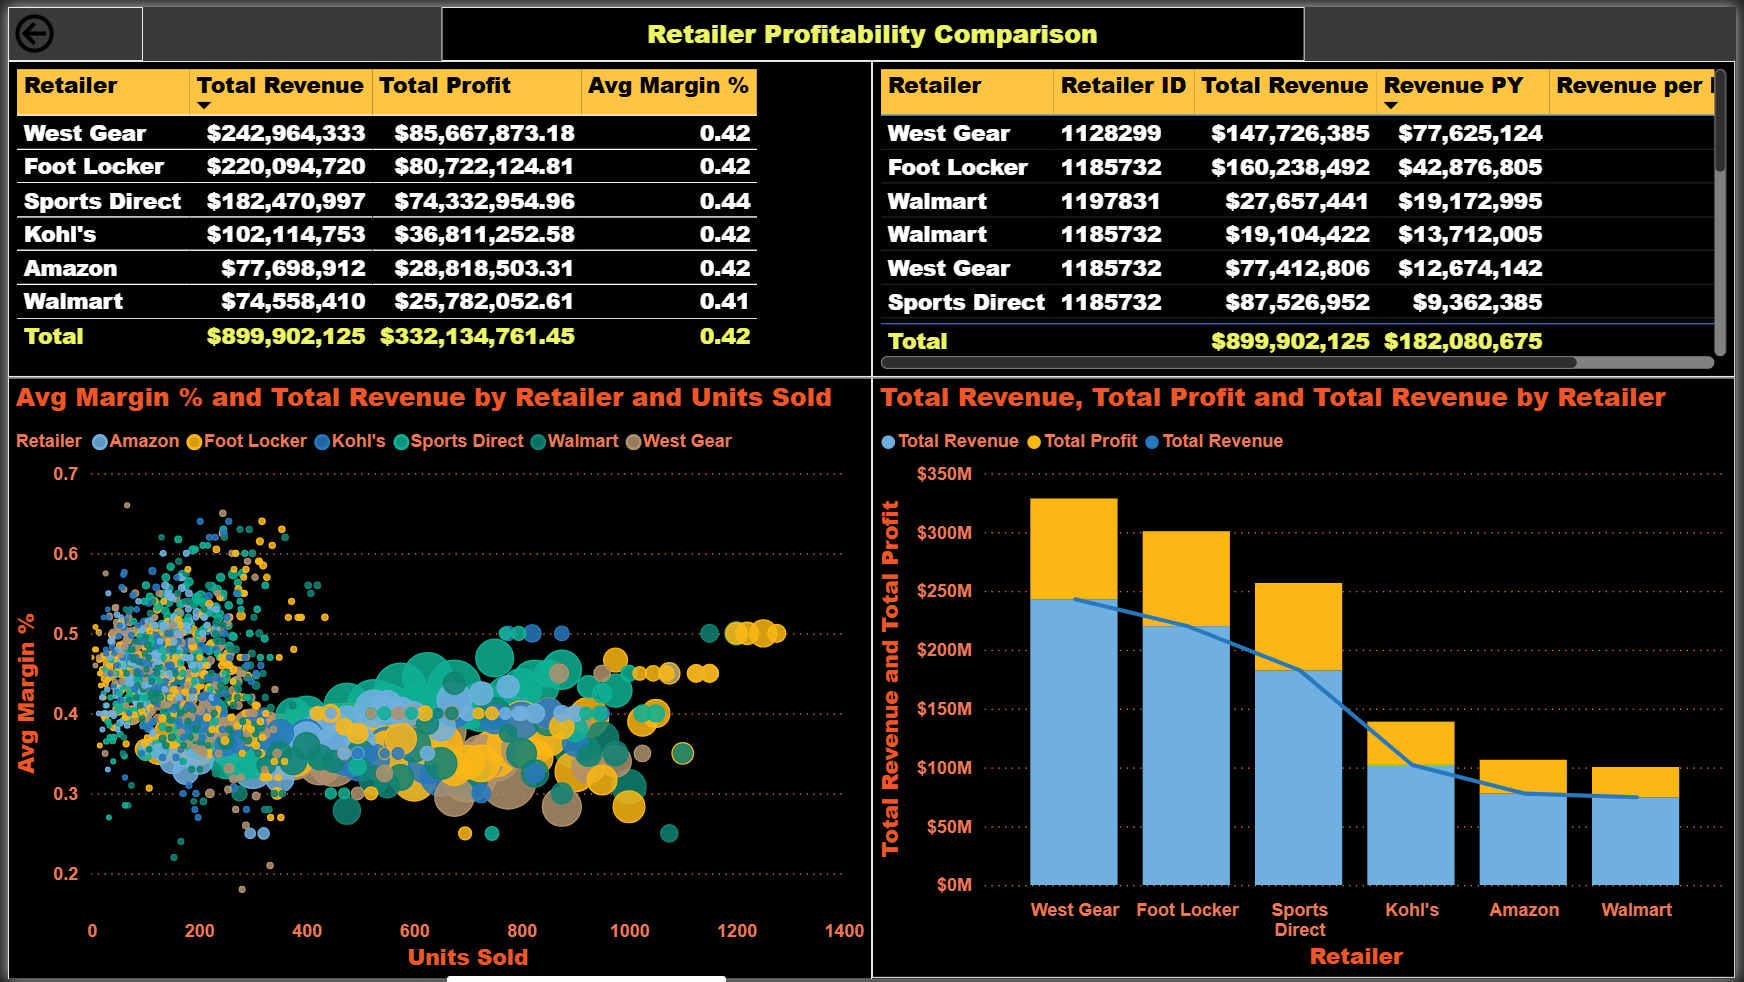

Layout of this report page (visuals, bound fields, positions):
{"tool":"powerbi","page":{"name":"Retailer Profitability Comparison","canvas":[1280,720],"ordinal":2},"visuals":[{"type":"lineStackedColumnComboChart","fields":{"Category":["Data Sales Adidas.Retailer"],"Y":["_Measures.Total Revenue","_Measures.Total Profit"],"Y2":["_Measures.Total Revenue"]},"box":[640.2,274.4,639.2,445],"z":0},{"type":"scatterChart","fields":{"X":["Data Sales Adidas.Units Sold"],"Y":["_Measures.Avg Margin %"],"Series":["Data Sales Adidas.Retailer"],"Size":["_Measures.Total Revenue"]},"box":[0,274.4,640.2,446],"z":1000},{"type":"tableEx","fields":{"Values":["Data Sales Adidas.Retailer","_Measures.Total Revenue","_Measures.Total Profit","_Measures.Avg Margin %"]},"box":[0,40.1,640.2,234.3],"z":2000},{"type":"tableEx","fields":{"Values":["Data Sales Adidas.Retailer","Data Sales Adidas.Retailer ID","_Measures.Total Revenue","_Measures.Revenue PY","_Measures.Revenue per Retailer Rank"]},"box":[640.2,40.1,639.2,234.3],"z":3000},{"type":"actionButton","box":[0,0,100,40],"z":6000},{"type":"textbox","box":[320.6,0,639.2,40.1],"z":6001}]}

Visuals, with their boxes in screenshot pixels (x1, y1, x2, y2), scaled from the page's 1280x720 canvas onto the 1744x982 screenshot:
lineStackedColumnComboChart - Data Sales Adidas.Retailer x _Measures.Total Revenue: [x1=872, y1=374, x2=1743, y2=981]
scatterChart - Data Sales Adidas.Units Sold x _Measures.Avg Margin %: [x1=0, y1=374, x2=872, y2=981]
tableEx - Data Sales Adidas.Retailer x _Measures.Total Revenue: [x1=0, y1=55, x2=872, y2=374]
tableEx - Data Sales Adidas.Retailer x Data Sales Adidas.Retailer ID: [x1=872, y1=55, x2=1743, y2=374]
actionButton: [x1=0, y1=0, x2=136, y2=55]
textbox: [x1=437, y1=0, x2=1308, y2=55]
